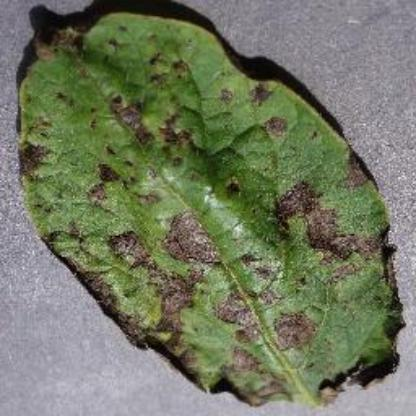Early-Blight: (12, 0, 412, 416)
